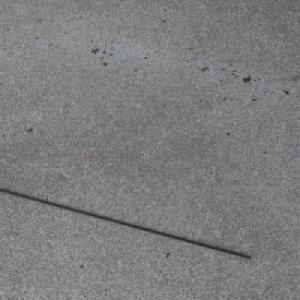LuggagePart: (0, 187, 256, 261)
